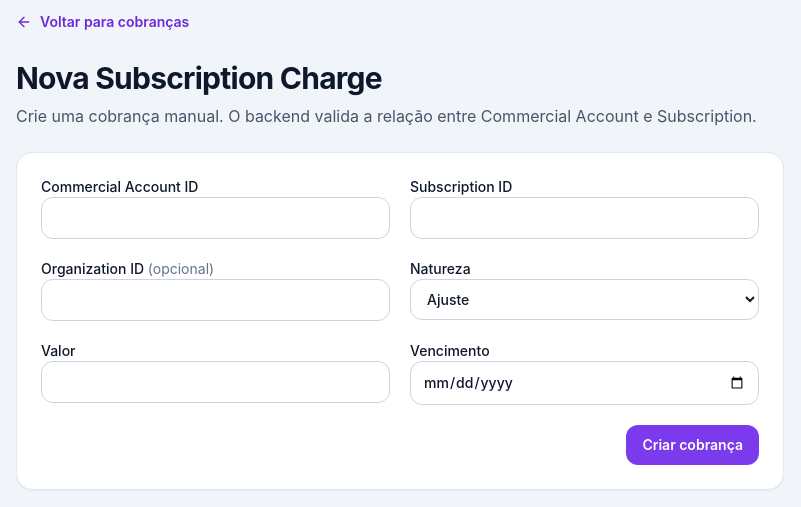
Test case: Platform subscription charges › creates a manual charge with decimal payload and exposes pending state without retry
This screenshot has width=801, height=507.
Type "account-1" into the field labelled "Commercial Account ID" at (216, 218), box [41, 197, 390, 239]
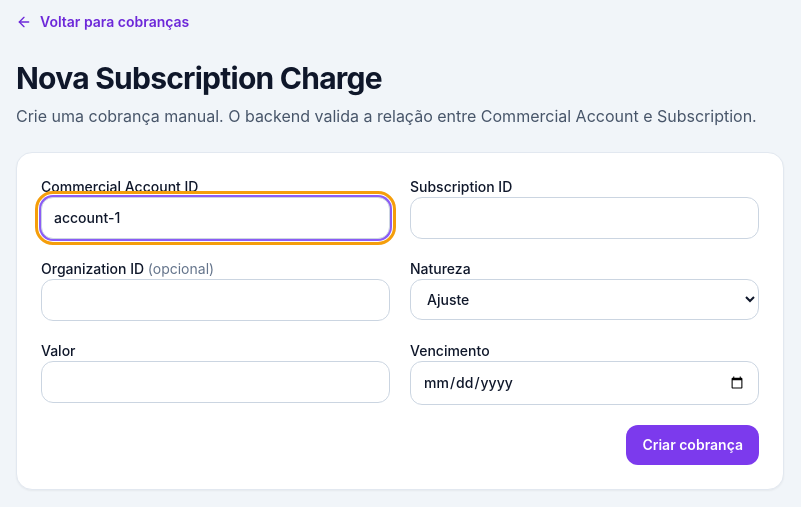
Type "sub-1" into the field labelled "Subscription ID" at (584, 218), box [410, 197, 759, 239]
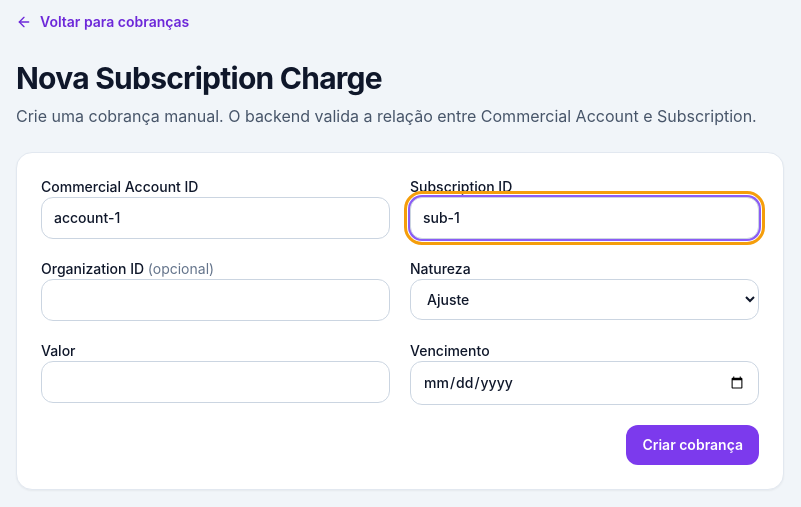
Type "org-1" into the field labelled "Organization ID" at (216, 300), box [41, 279, 390, 321]
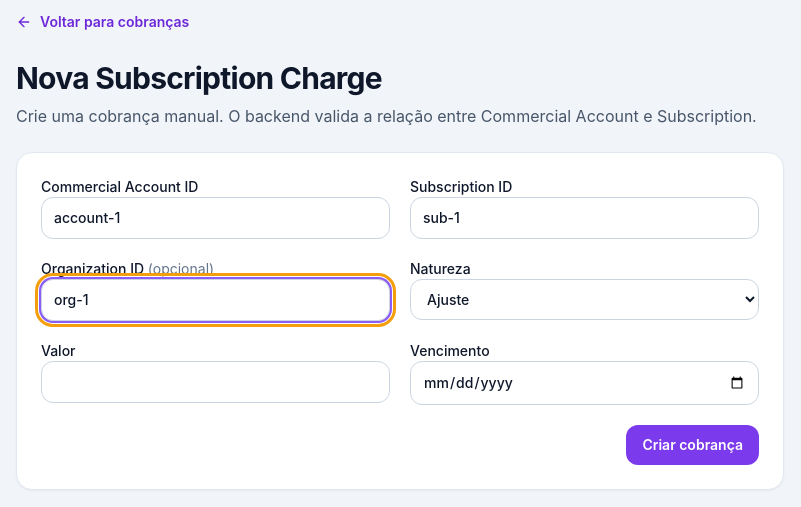
Type "129.90" into the field named "Valor da cobrança" at (216, 382), box [41, 361, 390, 403]
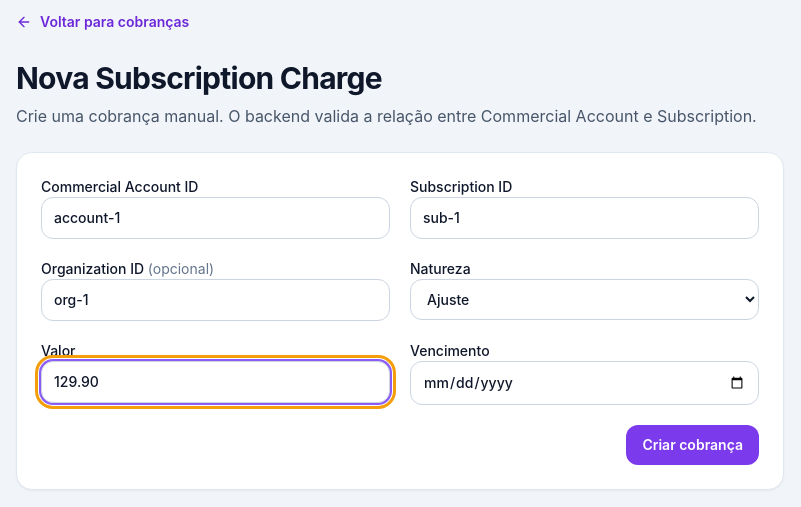
Type "2099-01-01" into the date field named "Vencimento da cobrança" at (584, 383), box [410, 361, 759, 405]
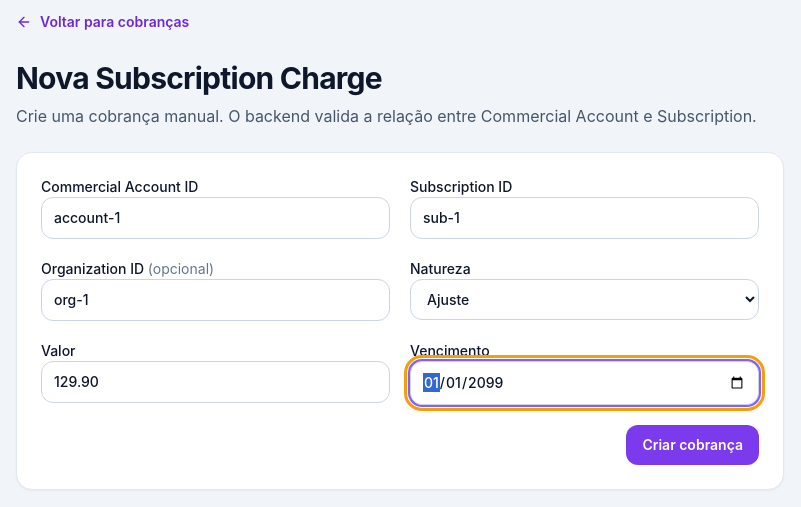
Click the button "Criar cobrança" at (693, 445), box [626, 425, 759, 465]
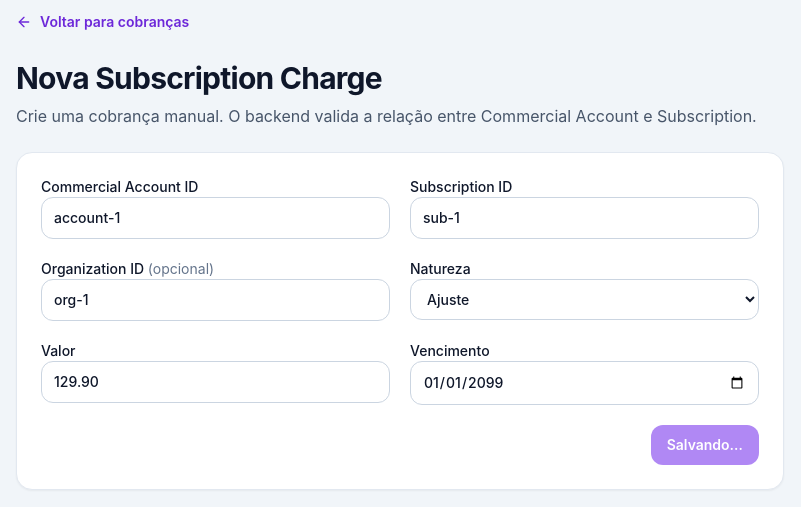
Expected: the button "Salvando…" is disabled, [651, 425, 759, 465]
